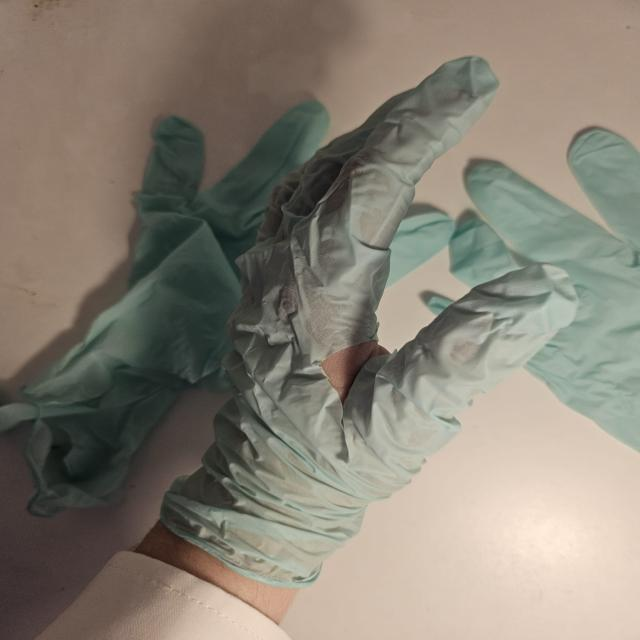gloves_damaged: (160, 54, 586, 580)
